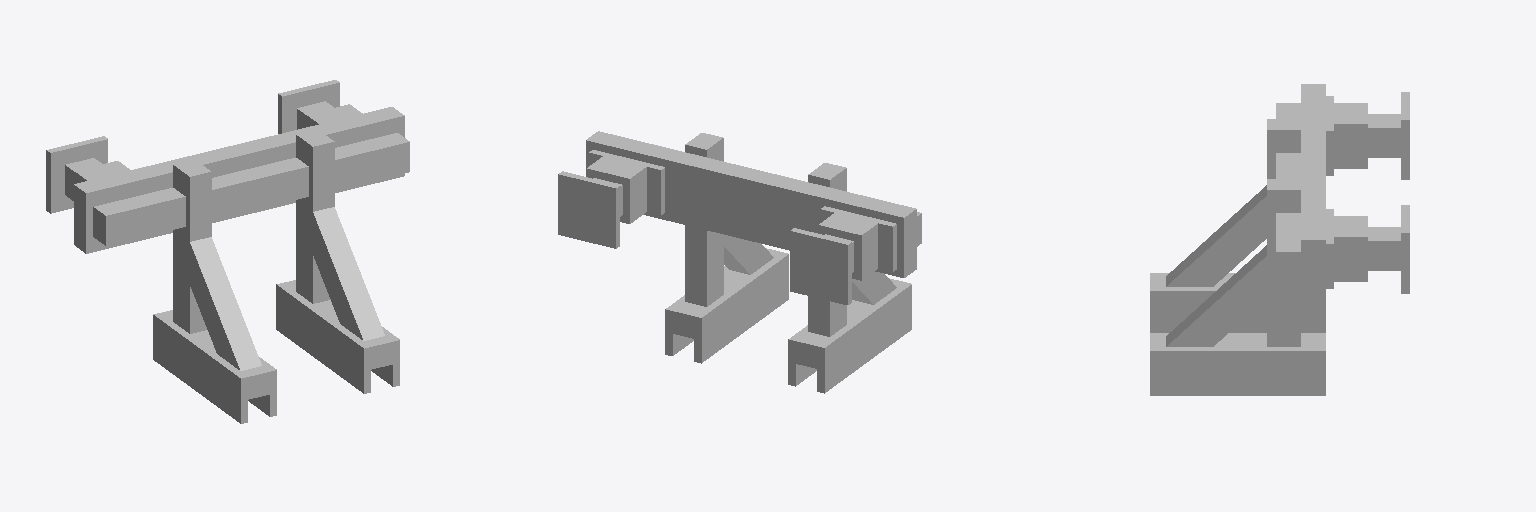
File: narrow_buffer_stop.obj
The picture shows the model from 3 angles: view 1: azimuth 30°, elevation 25°; view 2: azimuth 150°, elevation 25°; view 3: azimuth 270°, elevation 25°; orthographic projection.
Visible parts, largest first — view 1: cube.095, cube.094, cube.099, cube.105, cube.103, cube.098, cube.102, cube.093, cube.108, cube.107, cube.109, cube.110 (+8 smaller); view 2: cube.107, cube.099, cube.105, cube.114, cube.110, cube.108, cube.102, cube.109, cube.117, cube.113, cube.093, cube.103 (+7 smaller); view 3: cube.104, cube.098, cube.103, cube.102, cube.100, cube.109, cube.113, cube.117, cube.094, cube.111, cube.115, cube.107 (+8 smaller).
Part boxes in pixels (left/top/right/bottom): cube.095: left=93, top=170, right=257, bottom=245; cube.094: left=246, top=133, right=409, bottom=208; cube.099: left=153, top=313, right=247, bottom=423; cube.105: left=276, top=283, right=370, bottom=393; cube.103: left=313, top=207, right=384, bottom=340; cube.098: left=190, top=237, right=261, bottom=370; cube.102: left=296, top=129, right=334, bottom=303; cube.093: left=173, top=159, right=211, bottom=333; cube.108: left=74, top=160, right=178, bottom=253; cube.107: left=175, top=131, right=295, bottom=222; cube.109: left=291, top=107, right=404, bottom=192; cube.110: left=46, top=136, right=107, bottom=213; cube.107: left=687, top=156, right=814, bottom=250; cube.099: left=817, top=282, right=911, bottom=393; cube.105: left=694, top=252, right=788, bottom=363; cube.114: left=558, top=171, right=619, bottom=248; cube.110: left=790, top=228, right=851, bottom=304; cube.108: left=803, top=184, right=916, bottom=277; cube.102: left=685, top=133, right=723, bottom=306; cube.109: left=586, top=131, right=698, bottom=224; cube.117: left=587, top=156, right=646, bottom=223; cube.113: left=818, top=213, right=877, bottom=280; cube.093: left=808, top=163, right=846, bottom=336; cube.103: left=724, top=235, right=773, bottom=274; cube.104: left=1150, top=347, right=1325, bottom=395; cube.098: left=1166, top=185, right=1266, bottom=286; cube.103: left=1166, top=245, right=1266, bottom=346; cube.102: left=1267, top=179, right=1300, bottom=346; cube.100: left=1150, top=287, right=1325, bottom=332; cube.109: left=1301, top=190, right=1325, bottom=300; cube.113: left=1334, top=103, right=1367, bottom=168; cube.117: left=1334, top=216, right=1367, bottom=281; cube.094: left=1276, top=177, right=1300, bottom=281; cube.111: left=1368, top=114, right=1400, bottom=157; cube.115: left=1368, top=227, right=1400, bottom=270; cube.107: left=1301, top=134, right=1325, bottom=189.
Bounding box in the file's own units: 2.75 × 1.67 × 1.94.